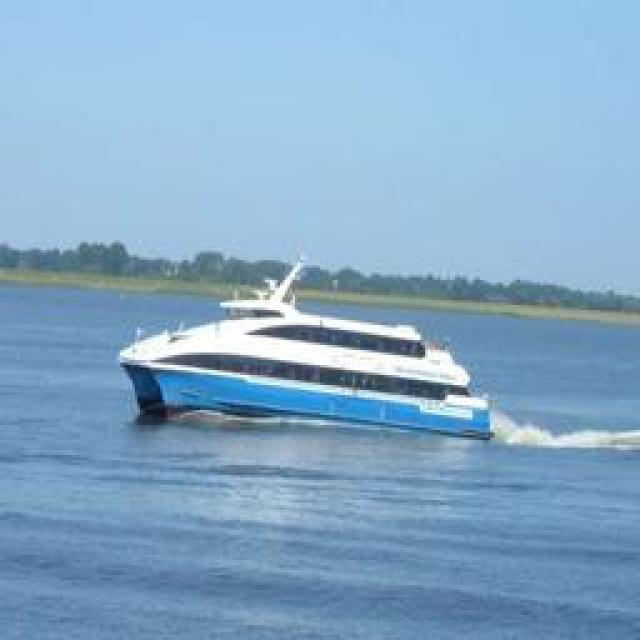ship2: (118, 273, 496, 444)
